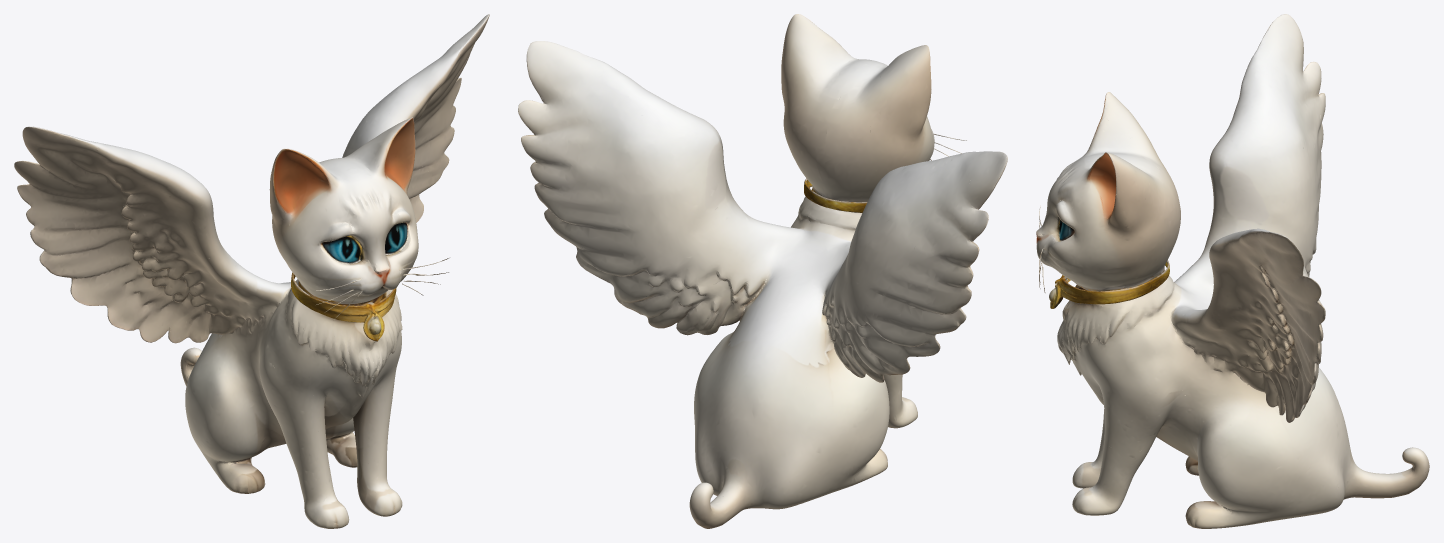
The model's file is stylized_angelic_cat.glb.
The picture shows the model from 3 angles, left to right: view 1: azimuth 30°, elevation 25°; view 2: azimuth 150°, elevation 25°; view 3: azimuth 270°, elevation 25°; orthographic projection. The views are drawn at different scales.
Size of the model in its own units: 1.9 by 1.48 by 1.4.
Materials: 1 (1 with a texture image).
